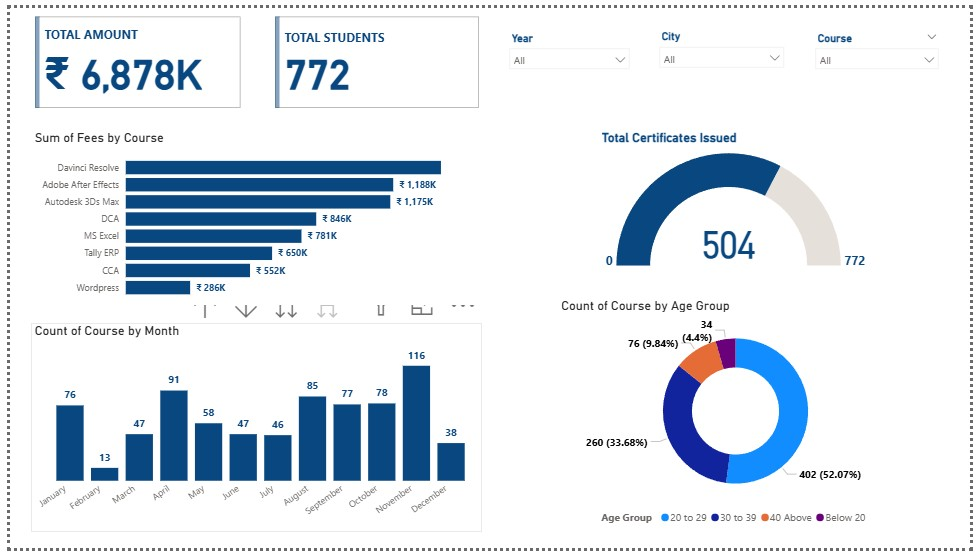

The dashboard page shown, as its layout file describes it:
{"tool":"powerbi","page":{"name":"Page 1","canvas":[1280,720],"ordinal":0},"visuals":[{"type":"clusteredColumnChart","fields":{"Category":["Student Course Details.Date of Join.Variation.Date Hierarchy.Year","Student Course Details.Date of Join.Variation.Date Hierarchy.Quarter","Student Course Details.Date of Join.Variation.Date Hierarchy.Month","Student Course Details.Date of Join.Variation.Date Hierarchy.Day"],"Y":["Student Course Details.Course"]},"box":[28,420,602,278],"z":0},{"type":"donutChart","fields":{"Y":["Student Course Details.Course"],"Category":["Student Course Details.Age Group 2"]},"box":[730,386,474,312],"z":1000},{"type":"clusteredBarChart","fields":{"Category":["Student Course Details.Course"],"Y":["Student Course Details.Fees"]},"box":[28,162,602,234],"z":2000},{"type":"cardVisual","fields":{"Data":["Student Course Details.Fees"]},"box":[28,6,284,132],"z":3000},{"type":"cardVisual","fields":{"Data":["Student Course Details.Student Name"]},"box":[348,6,282,132],"z":4000},{"type":"gauge","fields":{"Y":["Personal Details.Count_Yes"]},"box":[784,162,366,198],"z":5000},{"type":"slicer","fields":{"Values":["Student Course Details.Date of Join.Variation.Date Hierarchy.Year"]},"box":[656,26,180,98],"z":6000},{"type":"slicer","fields":{"Values":["Personal Details.City"]},"box":[856,24,186,98],"z":7000},{"type":"slicer","fields":{"Values":["Student Course Details.Course"]},"box":[1064,26,184,96],"z":8000}]}

Visuals, with their boxes in screenshot pixels (x1, y1, x2, y2), scaled from the page's 1280x720 canvas onto the 977x553 screenshot:
clusteredColumnChart - Student Course Details.Date of Join.Variation.Date Hierarchy.Year x Student Course Details.Date of Join.Variation.Date Hierarchy.Quarter: 21 323 481 536
donutChart - Student Course Details.Course x Student Course Details.Age Group 2: 557 296 919 536
clusteredBarChart - Student Course Details.Course x Student Course Details.Fees: 21 124 481 304
cardVisual - Student Course Details.Fees: 21 5 238 106
cardVisual - Student Course Details.Student Name: 266 5 481 106
gauge - Personal Details.Count_Yes: 598 124 878 276
slicer - Student Course Details.Date of Join.Variation.Date Hierarchy.Year: 501 20 638 95
slicer - Personal Details.City: 653 18 795 94
slicer - Student Course Details.Course: 812 20 953 94
